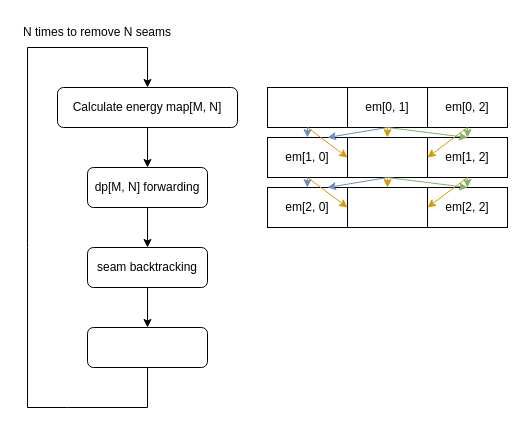
Image size: 525x433. Some labels were removed from this diagram. The shapes that lost their labels are listed below. From the top down, each one's centre as x and y in pixels, then its label:
At (x=307, y=107): "em[0, 0]".
At (x=387, y=157): "em[1, 1]".
At (x=387, y=207): "em[2, 1]".
At (x=147, y=347): "seam remove".
